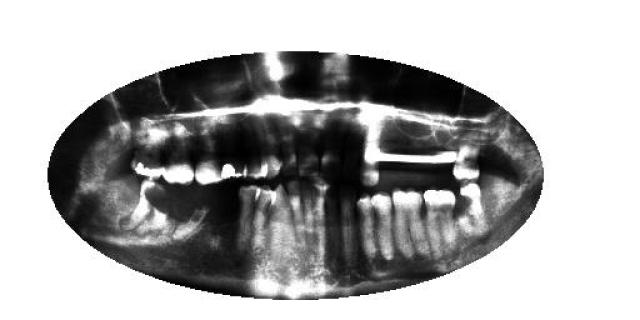Cavity: (125, 178, 170, 232), (455, 184, 490, 238), (174, 198, 214, 242)
Fillings: (133, 136, 165, 179), (222, 145, 242, 181)
